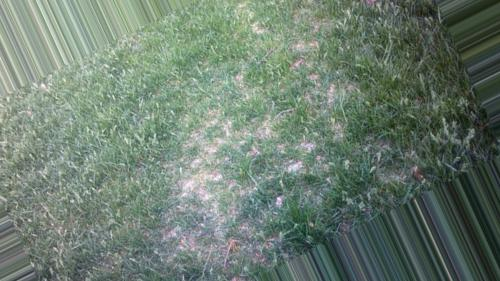patch: (183, 166, 239, 217), (192, 232, 233, 256), (330, 121, 352, 140), (210, 127, 233, 144)
